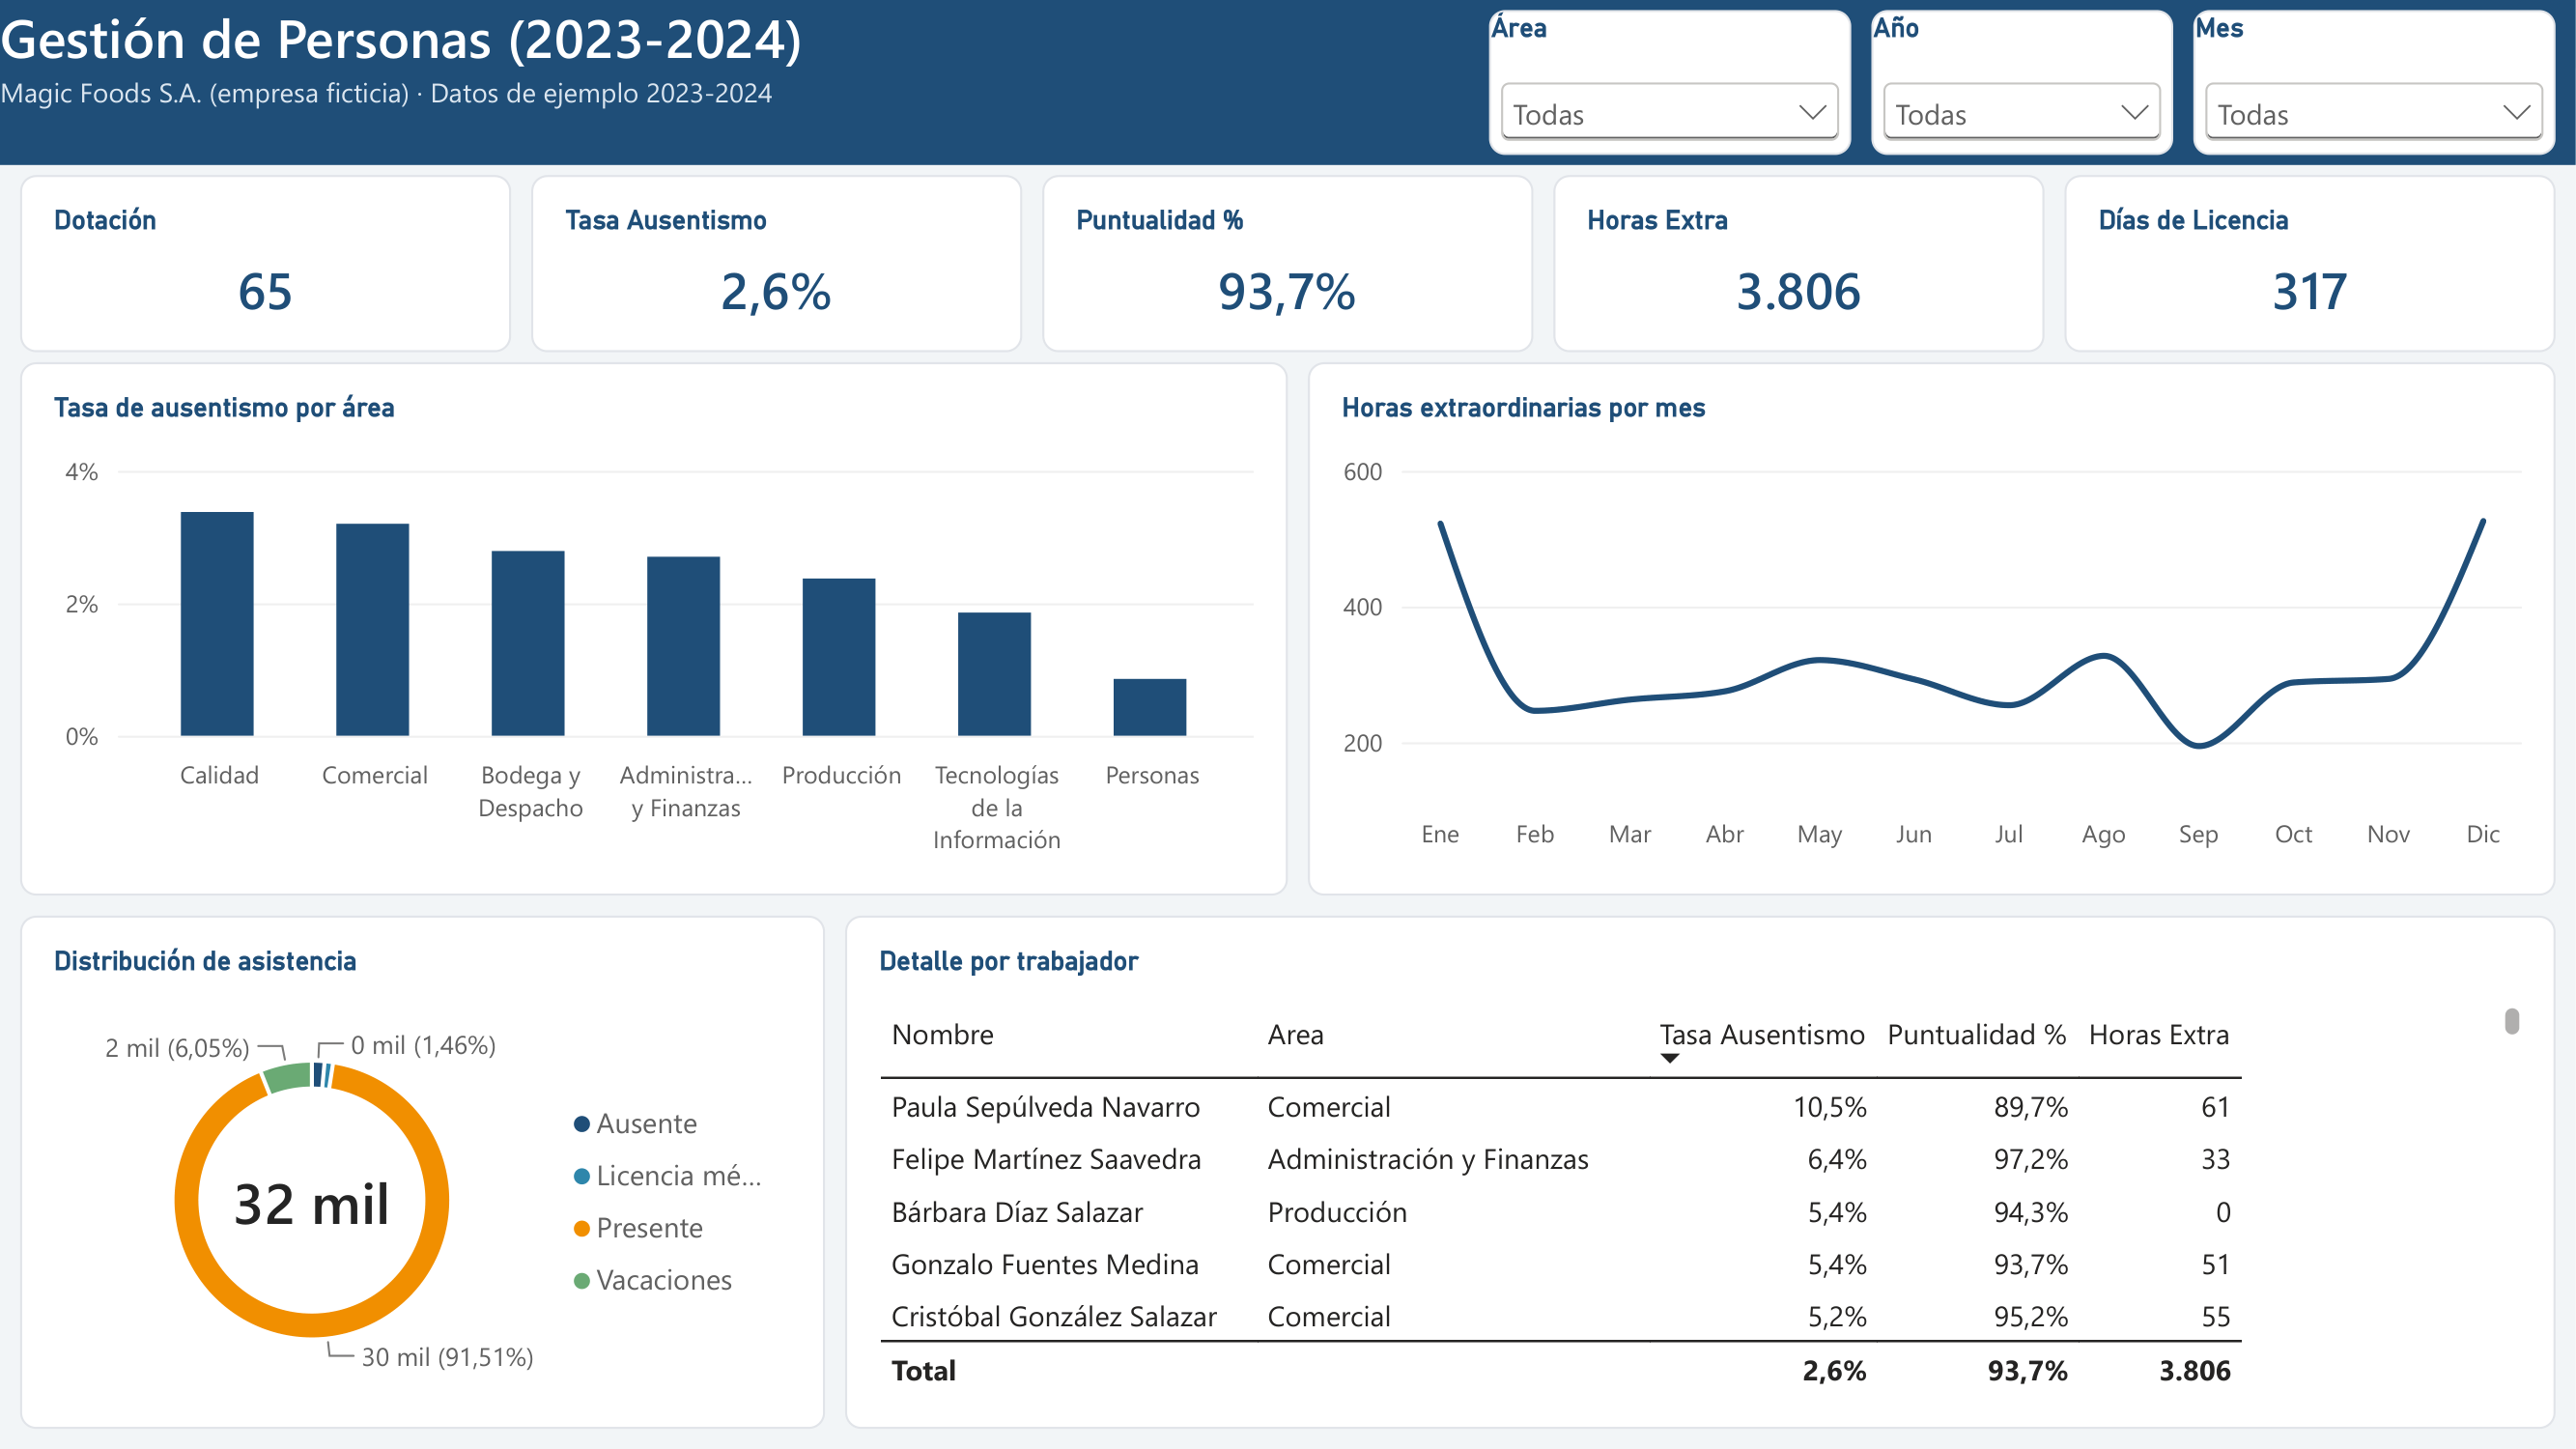

What the dashboard file says about the page in this screenshot:
{"tool":"tableau","page":{"name":"Personas","canvas":[1280,720],"ordinal":5},"visuals":[{"type":"text","box":[0,0,1280,82]},{"type":"parameter","param":"[Parameters].[pArea]","box":[740,8,180,66]},{"type":"parameter","param":"[Parameters].[pAnio]","box":[930,8,150,66]},{"type":"parameter","param":"[Parameters].[pMes]","box":[1090,8,180,66]},{"type":"worksheet","title":"E · Dotacion","mark":"Text","box":[10,87,244,88]},{"type":"worksheet","title":"E · Ausentismo","mark":"Text","box":[264,87,244,88]},{"type":"worksheet","title":"E · Puntualidad","mark":"Text","box":[518,87,244,88]},{"type":"worksheet","title":"E · Horas Extra","mark":"Text","box":[772,87,244,88]},{"type":"worksheet","title":"E · Dias Licencia","mark":"Text","box":[1026,87,244,88]},{"type":"worksheet","title":"E · Ausentismo Area","mark":"Bar","rows":["Ausent"],"cols":["Area"],"box":[10,180,630,265]},{"type":"worksheet","title":"E · Horas Extra Mes","mark":"Line","rows":["HE"],"cols":["Fecha"],"box":[650,180,620,265]},{"type":"worksheet","title":"E · Distribucion Asistencia","mark":"Pie","box":[10,455,280,255]},{"type":"worksheet","title":"E · Detalle Trabajador","mark":"Text","rows":["Nombre","Area"],"box":[420,455,850,255]},{"type":"legend","title":"E · Distribucion Asistencia","param":"[federated.b36174ebb807eba85885a6888b7b].[none:Estado:nk]","box":[290,487,112,215]}]}

Visuals, with their boxes in screenshot pixels (x1, y1, x2, y2), scaled from the page's 1280x720 canvas onto the 2576x1449 screenshot:
text: bbox=[0, 0, 2575, 165]
parameter: bbox=[1489, 16, 1852, 149]
parameter: bbox=[1872, 16, 2173, 149]
parameter: bbox=[2194, 16, 2556, 149]
"E · Dotacion" worksheet (Text marks): bbox=[20, 175, 511, 353]
"E · Ausentismo" worksheet (Text marks): bbox=[531, 175, 1022, 353]
"E · Puntualidad" worksheet (Text marks): bbox=[1042, 175, 1534, 353]
"E · Horas Extra" worksheet (Text marks): bbox=[1554, 175, 2045, 353]
"E · Dias Licencia" worksheet (Text marks): bbox=[2065, 175, 2556, 353]
"E · Ausentismo Area" worksheet (Bar marks): bbox=[20, 362, 1288, 895]
"E · Horas Extra Mes" worksheet (Line marks): bbox=[1308, 362, 2556, 895]
"E · Distribucion Asistencia" worksheet (Pie marks): bbox=[20, 916, 583, 1429]
"E · Detalle Trabajador" worksheet (Text marks): bbox=[845, 916, 2556, 1429]
"E · Distribucion Asistencia" legend: bbox=[583, 980, 809, 1412]
